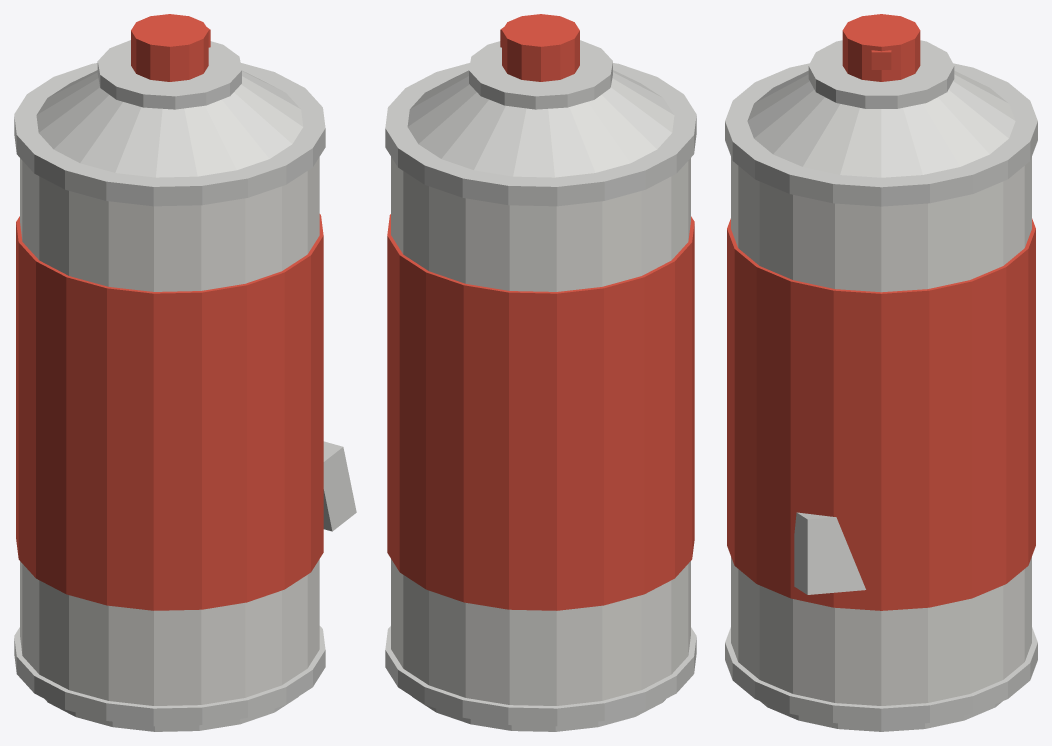
File: spraycan.glb
3 renders of one model, left to right at view 1: azimuth 30°, elevation 25°; view 2: azimuth 150°, elevation 25°; view 3: azimuth 270°, elevation 25°, orthographic.
Parts seen in each view (by area): view 1: change_color, SprayCan; view 2: change_color, SprayCan; view 3: SprayCan, change_color.
Part boxes in pixels (left/top/right/bottom): change_color: left=16, top=14, right=323, bottom=610; SprayCan: left=14, top=40, right=356, bottom=731; change_color: left=387, top=14, right=694, bottom=610; SprayCan: left=385, top=40, right=696, bottom=731; SprayCan: left=725, top=40, right=1037, bottom=731; change_color: left=727, top=14, right=1035, bottom=610.
Size of the model in its own units: 0.3391 by 0.729 by 0.322.
